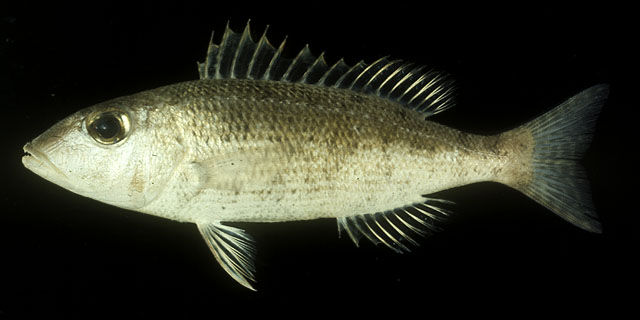fish: (21, 20, 607, 293)
